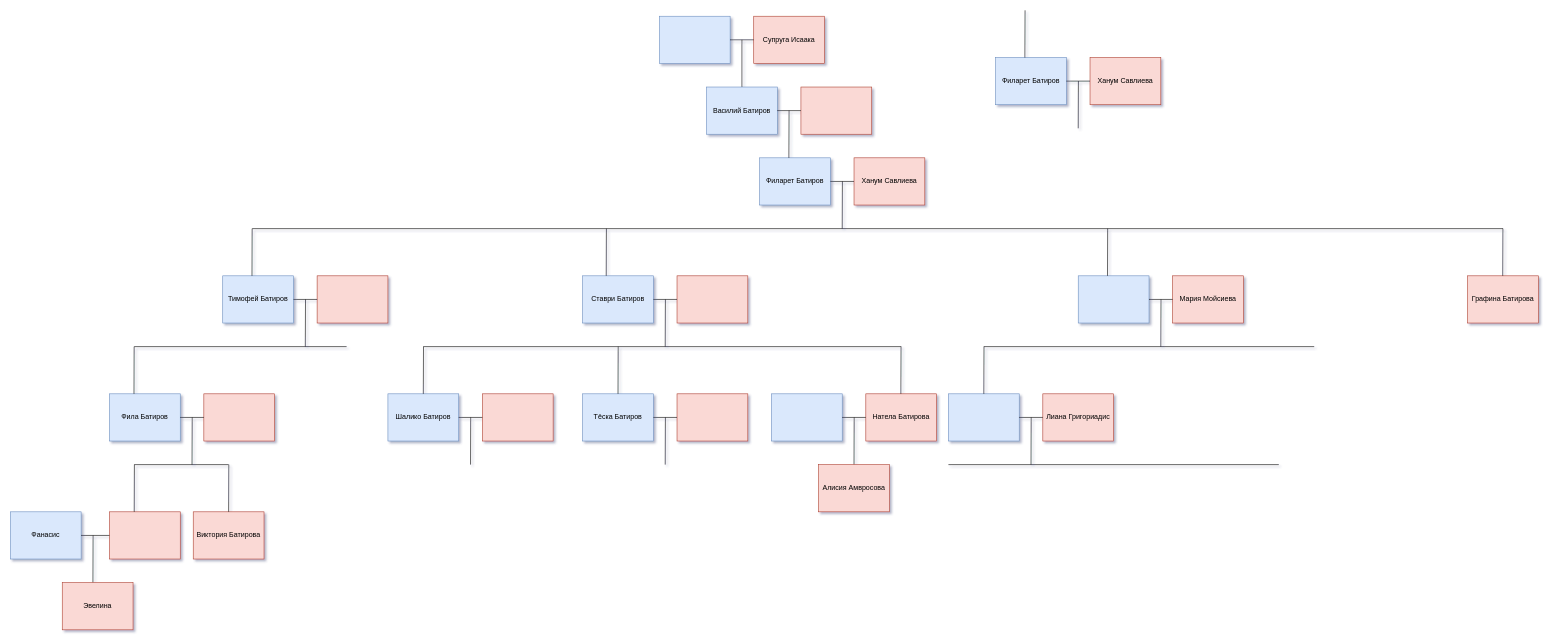
This 1552x644 diagram has some shape labels left out. Here are the shapes that lost their labels. From the top down, the centre of each, then its label:
At point 694,39: "Исаак Батиров".
At point 836,110: "Супруга Василия".
At point 1113,299: "Феохар Батиров".
At point 239,417: "Тамара".
At point 983,417: "Геннади Батиров".
At point 144,535: "Александра Батирова".
